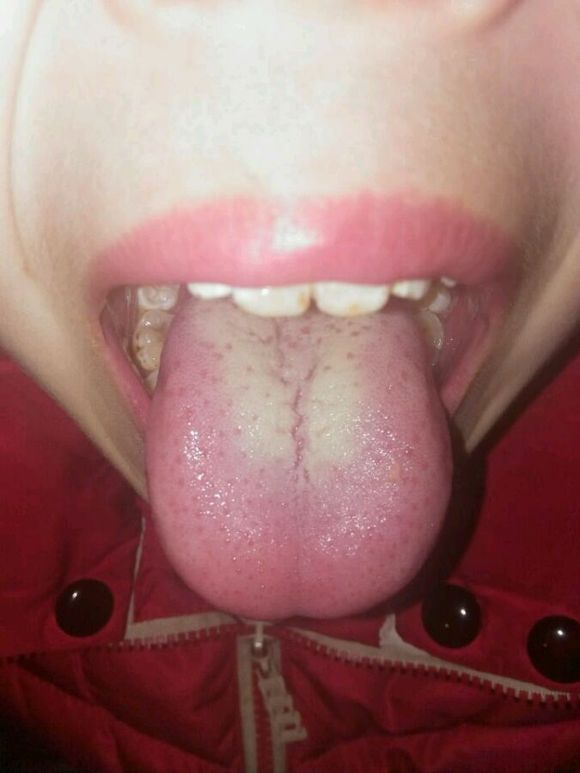hongdianshe: (343, 347, 355, 360)
hongshe: (145, 285, 454, 620)
huangtaishe: (145, 285, 454, 620)
liewenshe: (289, 362, 312, 485)
